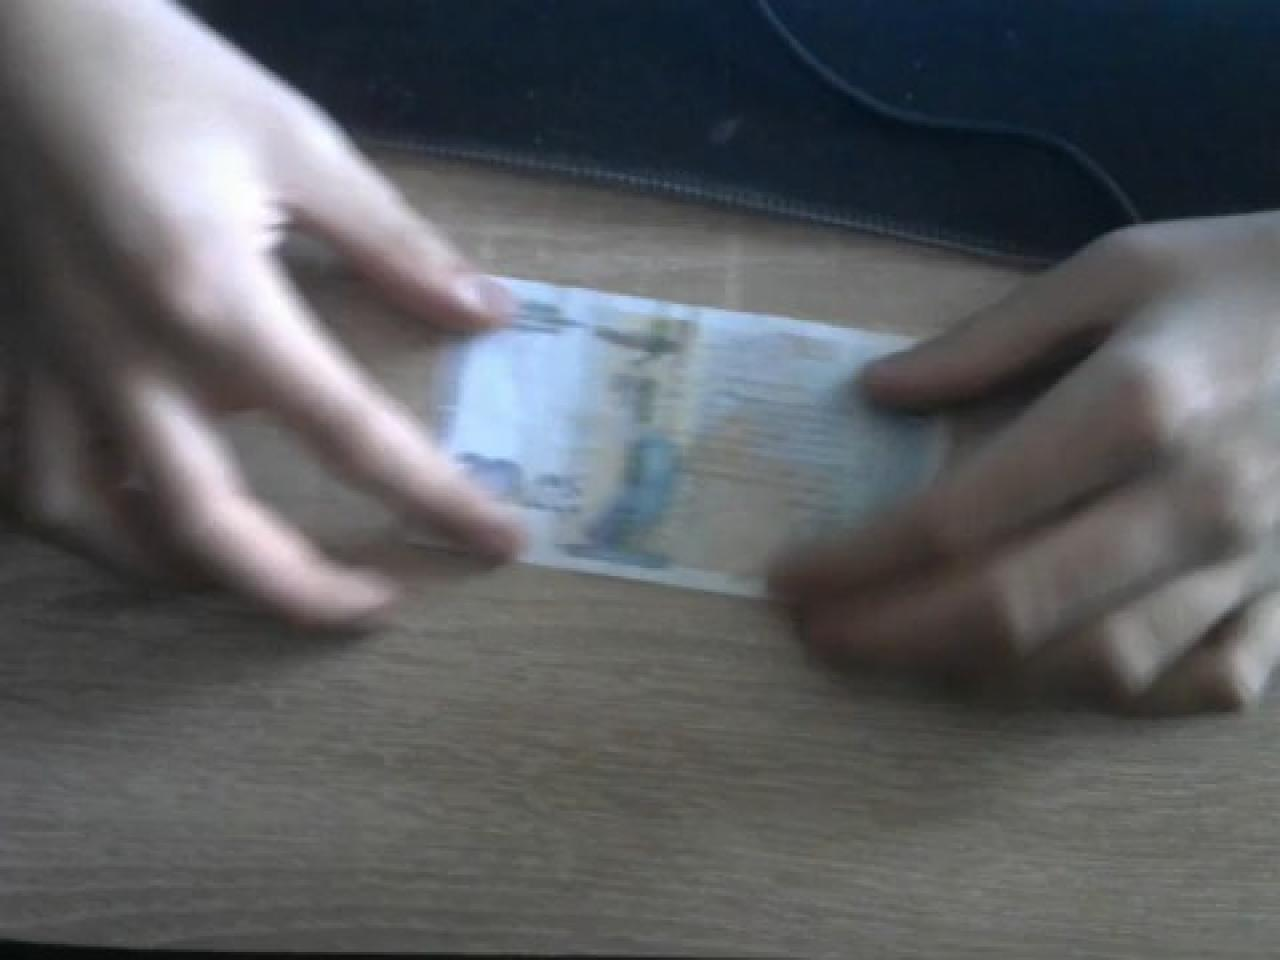20leva: (405, 280, 949, 597)
